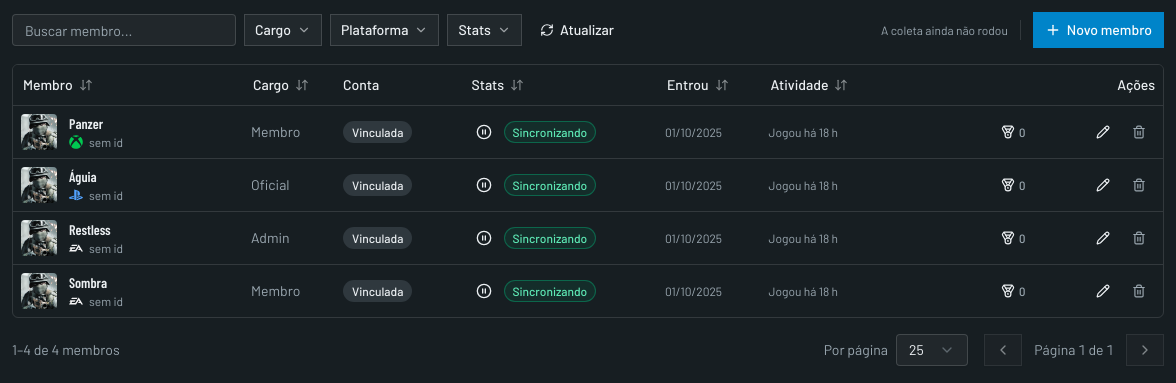
Test: MembersTable › says so when the filters match nothing
The image size is (1176, 383).
Type "zzz" into the search field labelled "Buscar membro" at [124, 30], box left=12, top=14, right=236, bottom=46
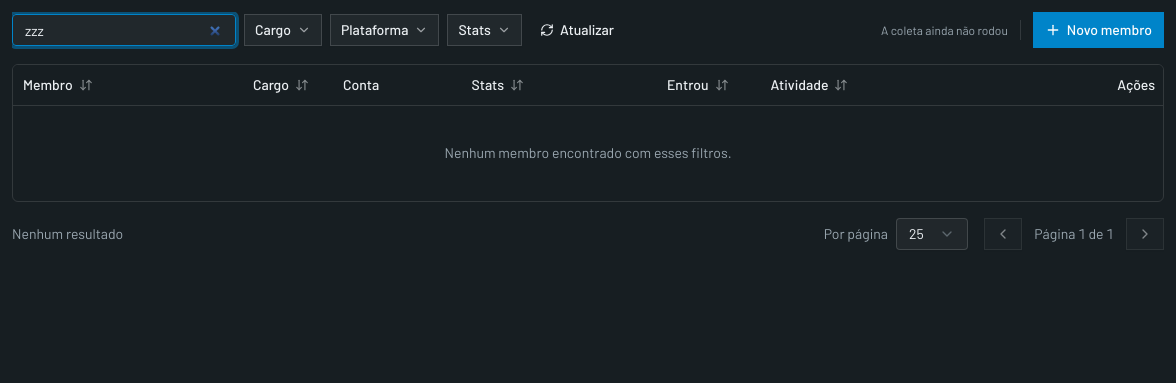
Expected: the text "Nenhum membro encontrado com esses filtros." is shown, left=13, top=105, right=1163, bottom=201
